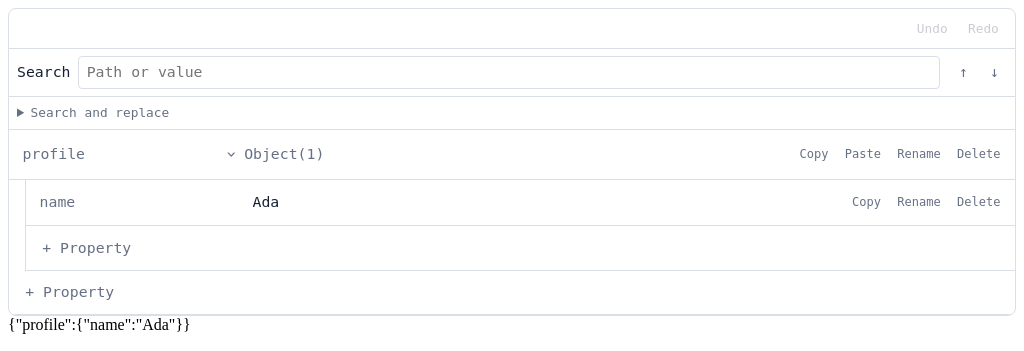
ObjectEditor › rejects mismatched clipboard containers
The image size is (1024, 351).
Click the button with aria-label "Paste profile" at {"x": 863, "y": 154}, box 838,141 -> 888,168
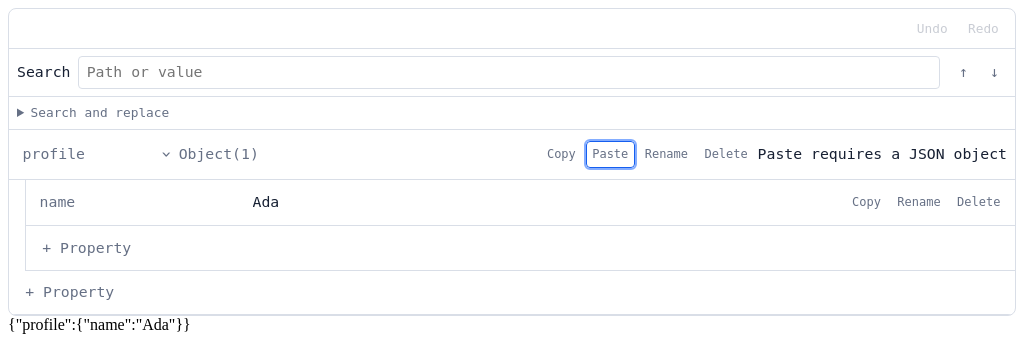
Now the text "Paste requires a JSON object" is shown, box 758,144 -> 1007,165
